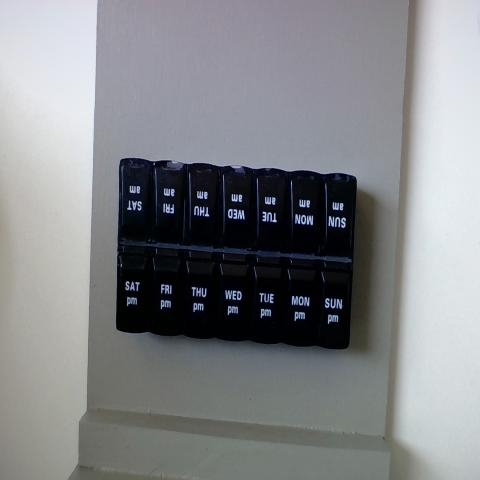FRI-am: (153, 162, 188, 242)
FRI-pm: (152, 248, 184, 331)
MON-am: (289, 172, 324, 253)
MON-pm: (284, 262, 320, 346)
PillBox: (106, 136, 373, 398)
SAT-am: (120, 159, 152, 242)
SAT-pm: (118, 248, 152, 330)
SUN-am: (325, 177, 357, 255)
SUN-pm: (319, 262, 352, 348)
THU-am: (188, 166, 220, 244)
THU-pm: (183, 250, 217, 336)
TUE-am: (257, 166, 288, 252)
TUE-pm: (251, 262, 283, 342)
WED-am: (224, 167, 256, 249)
WED-pm: (216, 257, 252, 335)
